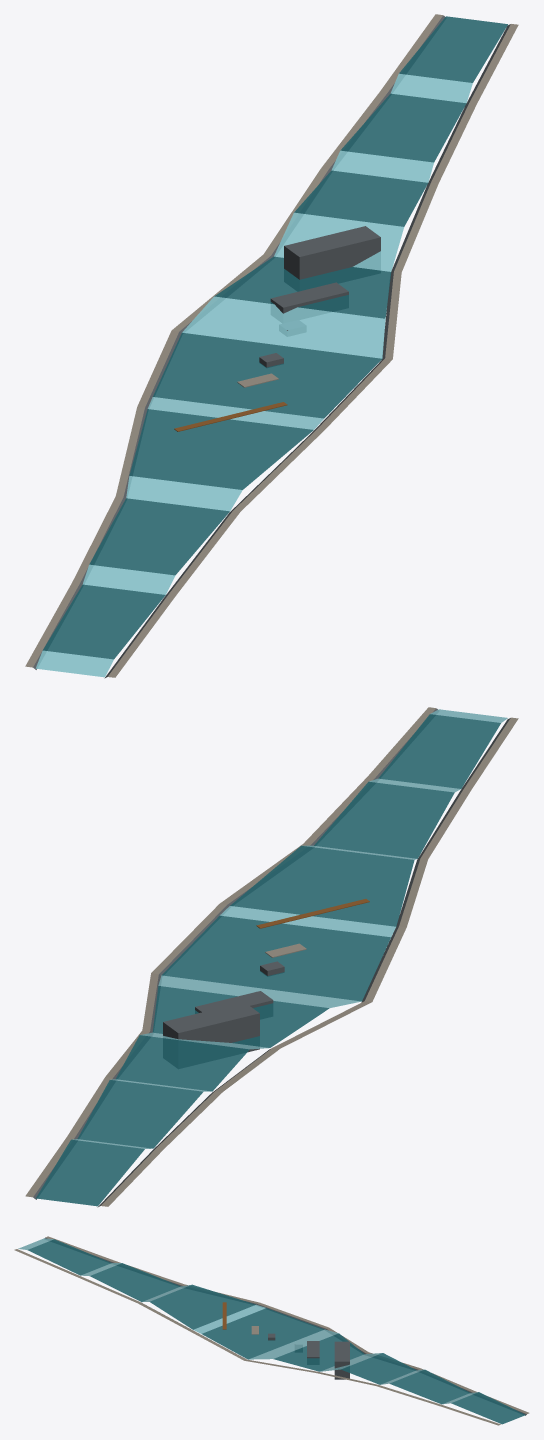
Rendered from water_thac_bnor_c_da_nghit.glb.
The picture shows the model from 3 angles, top to bottom: view 1: azimuth 30°, elevation 25°; view 2: azimuth 210°, elevation 25°; view 3: azimuth 270°, elevation 25°; orthographic projection. The views are drawn at different scales.
Parts seen in each view (by area): view 1: water_terraces_water_thac_bnor_c_da_nghit, waterfall_curtain_water_thac_bnor_c_da_nghit, canyon_walkway_water_thac_bnor_c_da_nghit, bnor_c_da_nghit_basalt_waterfall_cliff, basalt_canyon_embankments_water_thac_bnor_c_da_nghit, bnor_c_middle_cascade_stone_terrace; view 2: water_terraces_water_thac_bnor_c_da_nghit, canyon_walkway_water_thac_bnor_c_da_nghit, waterfall_curtain_water_thac_bnor_c_da_nghit, bnor_c_da_nghit_basalt_waterfall_cliff, basalt_canyon_embankments_water_thac_bnor_c_da_nghit, bnor_c_middle_cascade_stone_terrace; view 3: water_terraces_water_thac_bnor_c_da_nghit, canyon_walkway_water_thac_bnor_c_da_nghit, waterfall_curtain_water_thac_bnor_c_da_nghit, bnor_c_da_nghit_basalt_waterfall_cliff, basalt_canyon_embankments_water_thac_bnor_c_da_nghit.
Boxes of the visible parts, left/top/right/bottom form: water_terraces_water_thac_bnor_c_da_nghit: left=43, top=16, right=507, bottom=659; waterfall_curtain_water_thac_bnor_c_da_nghit: left=35, top=73, right=472, bottom=677; canyon_walkway_water_thac_bnor_c_da_nghit: left=25, top=14, right=518, bottom=677; bnor_c_da_nghit_basalt_waterfall_cliff: left=284, top=226, right=380, bottom=279; basalt_canyon_embankments_water_thac_bnor_c_da_nghit: left=33, top=15, right=510, bottom=678; bnor_c_middle_cascade_stone_terrace: left=270, top=282, right=348, bottom=313; water_terraces_water_thac_bnor_c_da_nghit: left=35, top=714, right=500, bottom=1206; canyon_walkway_water_thac_bnor_c_da_nghit: left=25, top=707, right=518, bottom=1206; waterfall_curtain_water_thac_bnor_c_da_nghit: left=72, top=709, right=507, bottom=1148; bnor_c_da_nghit_basalt_waterfall_cliff: left=163, top=1002, right=259, bottom=1052; basalt_canyon_embankments_water_thac_bnor_c_da_nghit: left=33, top=708, right=510, bottom=1207; bnor_c_middle_cascade_stone_terrace: left=195, top=991, right=273, bottom=1012; water_terraces_water_thac_bnor_c_da_nghit: left=27, top=1239, right=525, bottom=1424; canyon_walkway_water_thac_bnor_c_da_nghit: left=14, top=1236, right=529, bottom=1425; waterfall_curtain_water_thac_bnor_c_da_nghit: left=18, top=1238, right=478, bottom=1404; bnor_c_da_nghit_basalt_waterfall_cliff: left=334, top=1341, right=349, bottom=1379; basalt_canyon_embankments_water_thac_bnor_c_da_nghit: left=44, top=1237, right=526, bottom=1415.
Bounding box in the file's own units: 602 × 51.45 × 570.
